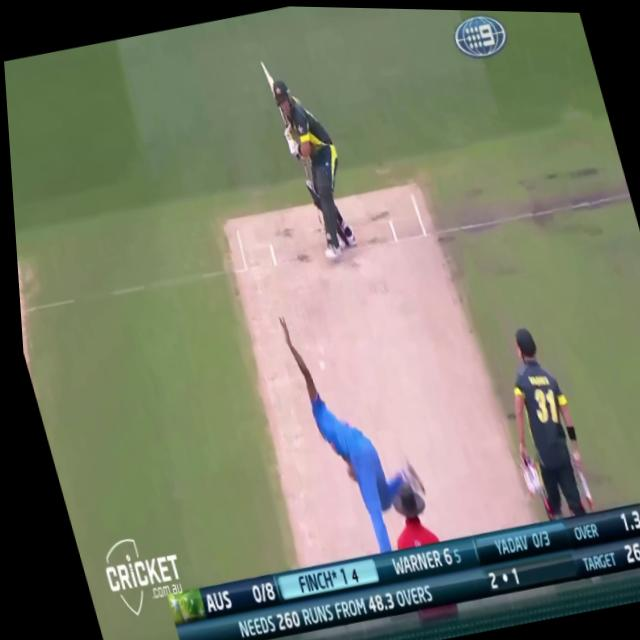Batsman: (255, 47, 365, 268)
